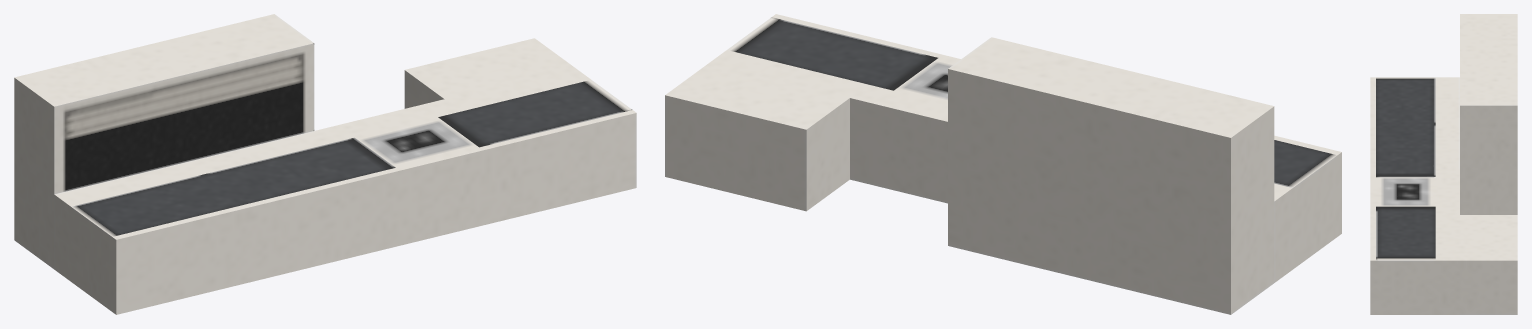
The model's file is checkout.fbx.
The picture shows the model from 3 angles, left to right: view 1: azimuth 30°, elevation 25°; view 2: azimuth 150°, elevation 25°; view 3: azimuth 270°, elevation 25°; orthographic projection. The views are drawn at different scales.
Parts seen in each view (by area): view 1: base.001; view 2: base.001; view 3: base.001.
Boxes of the visible parts, left/top/right/bottom form: base.001: left=14, top=14, right=636, bottom=314; base.001: left=665, top=14, right=1341, bottom=314; base.001: left=1370, top=14, right=1517, bottom=314.
Size of the model in its own units: 650 by 194 by 221.
